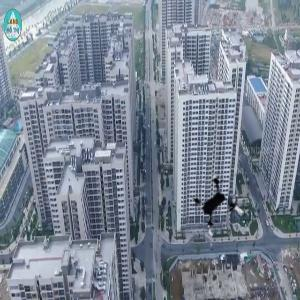drone: (188, 176, 252, 240)
